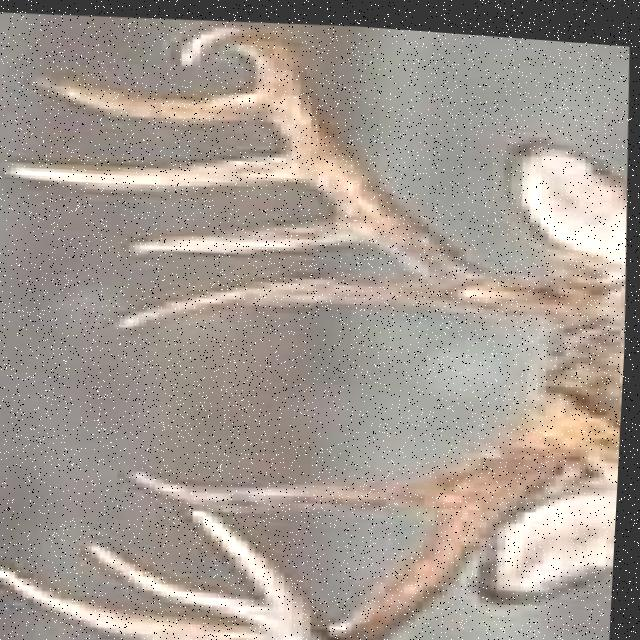L-F: (190, 385, 624, 640)
L-G1: (127, 460, 459, 508)
L-G3: (86, 535, 277, 621)
R-F: (164, 19, 613, 313)
R-G1: (113, 265, 453, 329)
R-G2: (129, 208, 370, 255)
R-G3: (4, 143, 313, 190)
R-G4: (26, 71, 261, 125)
